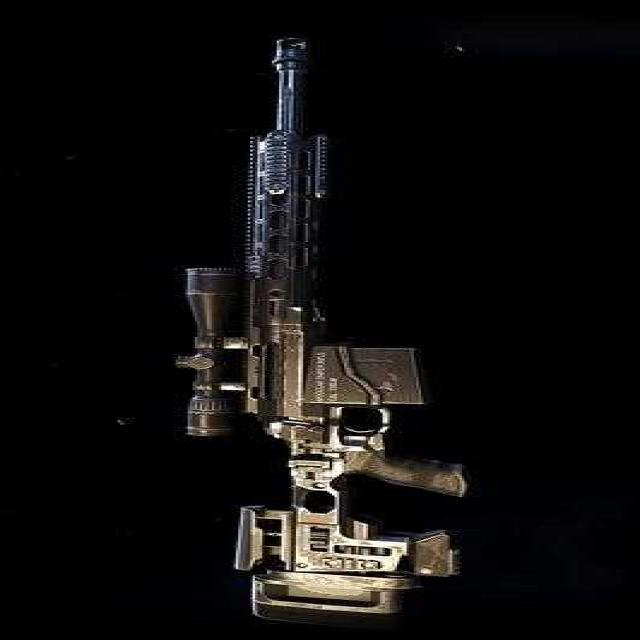heavyweapon: (136, 28, 512, 631)
